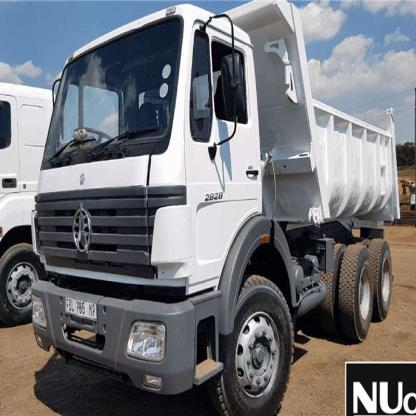dump_truck: (12, 10, 416, 415)
